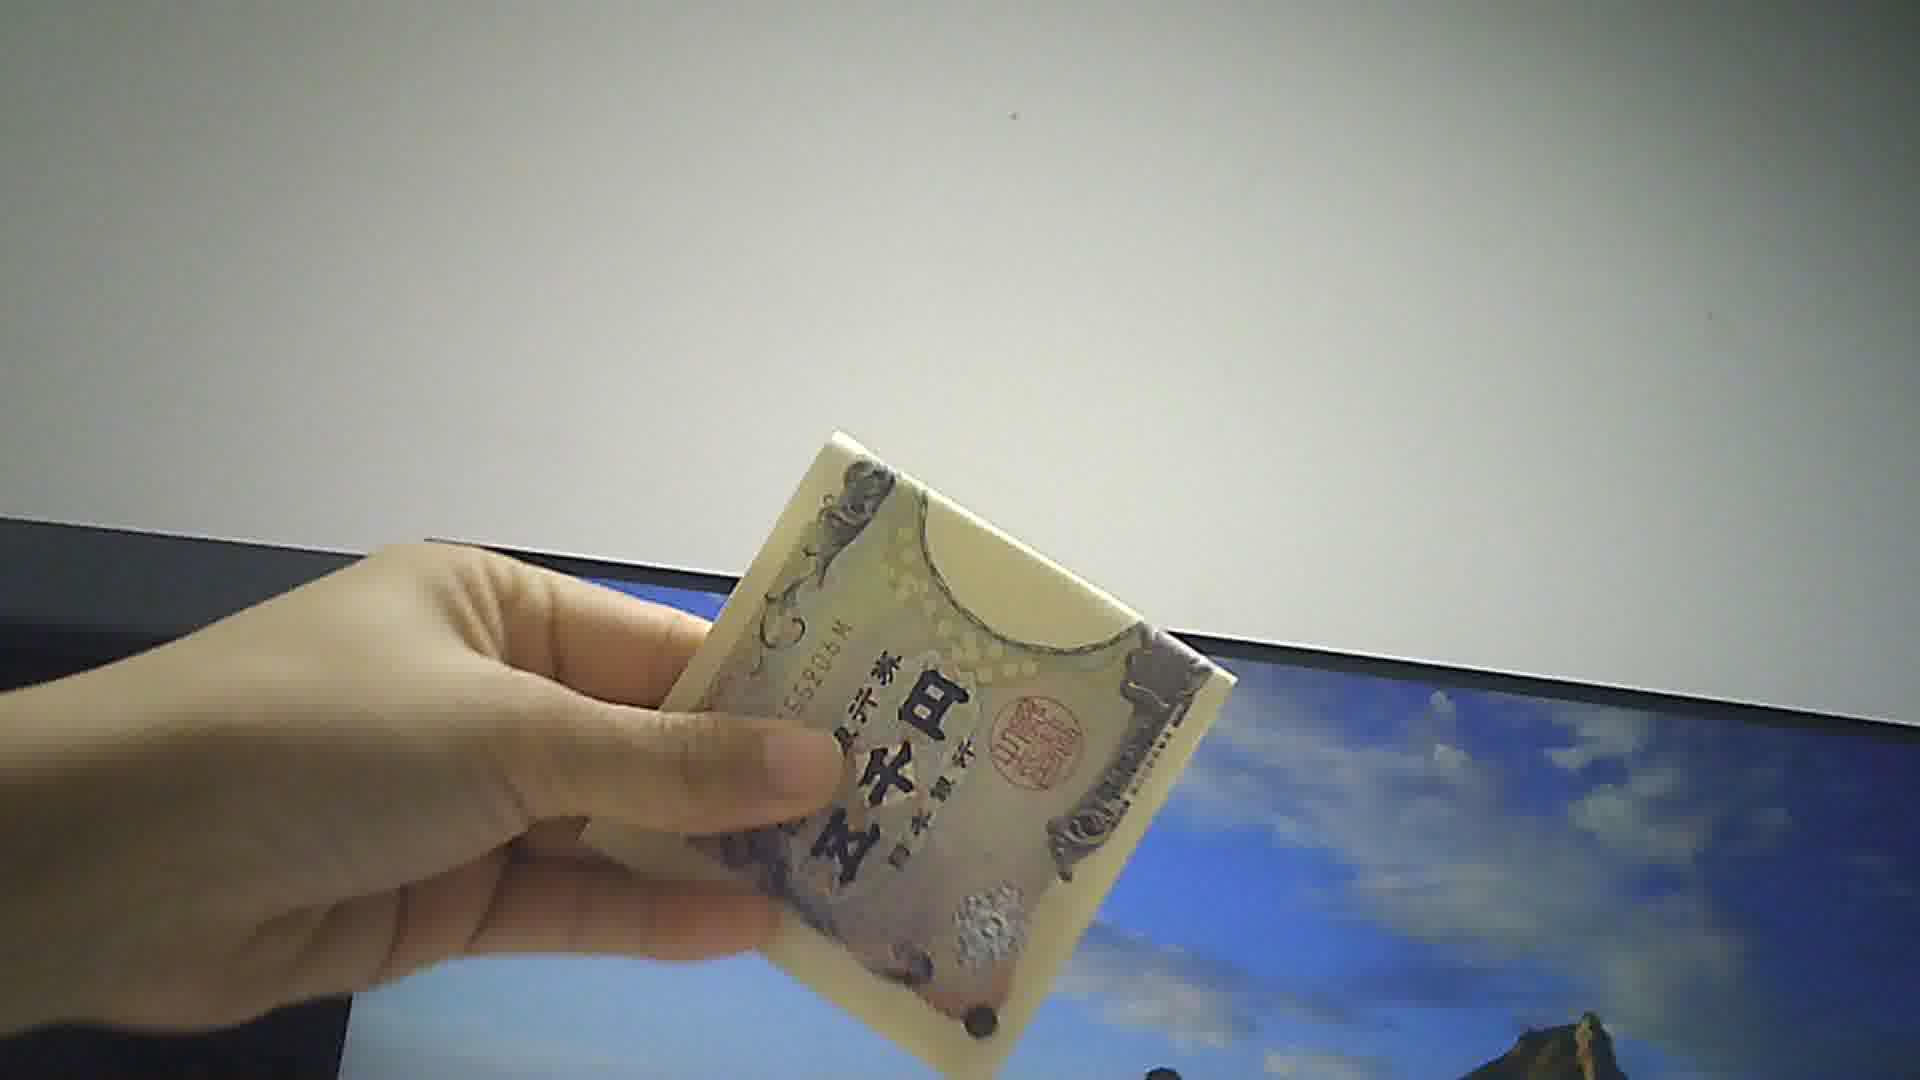5,000 Yen: (582, 419, 1237, 1054)
